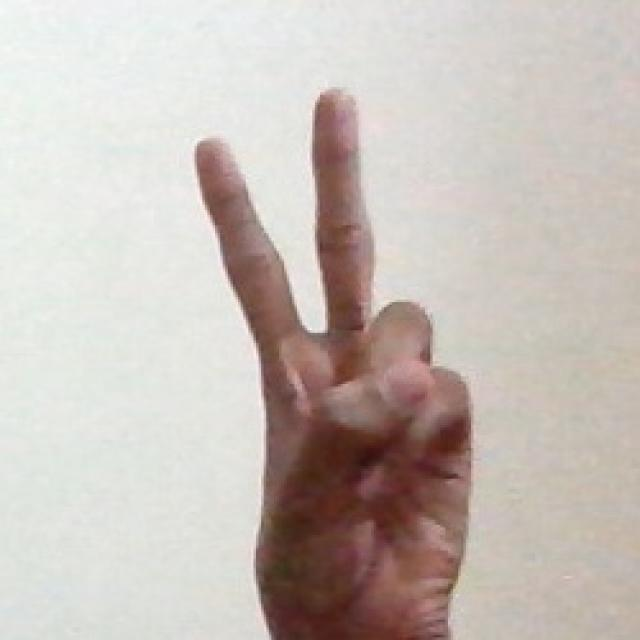Numeric-2: (188, 76, 471, 616)
